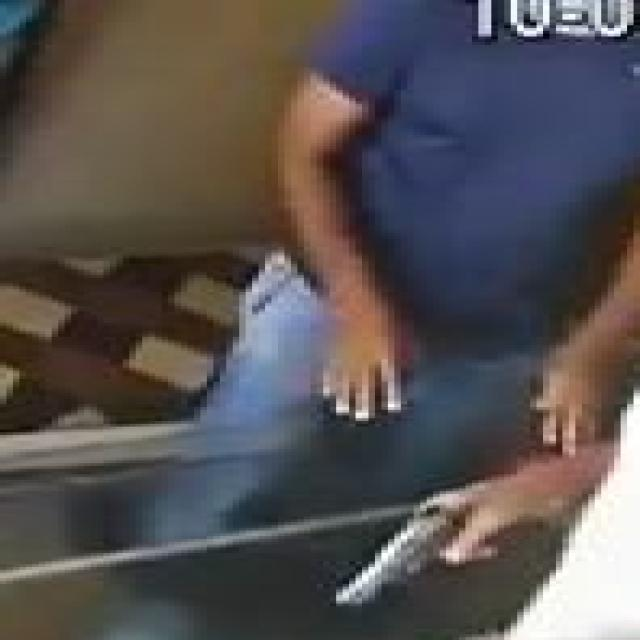Guns: (298, 448, 570, 633)
